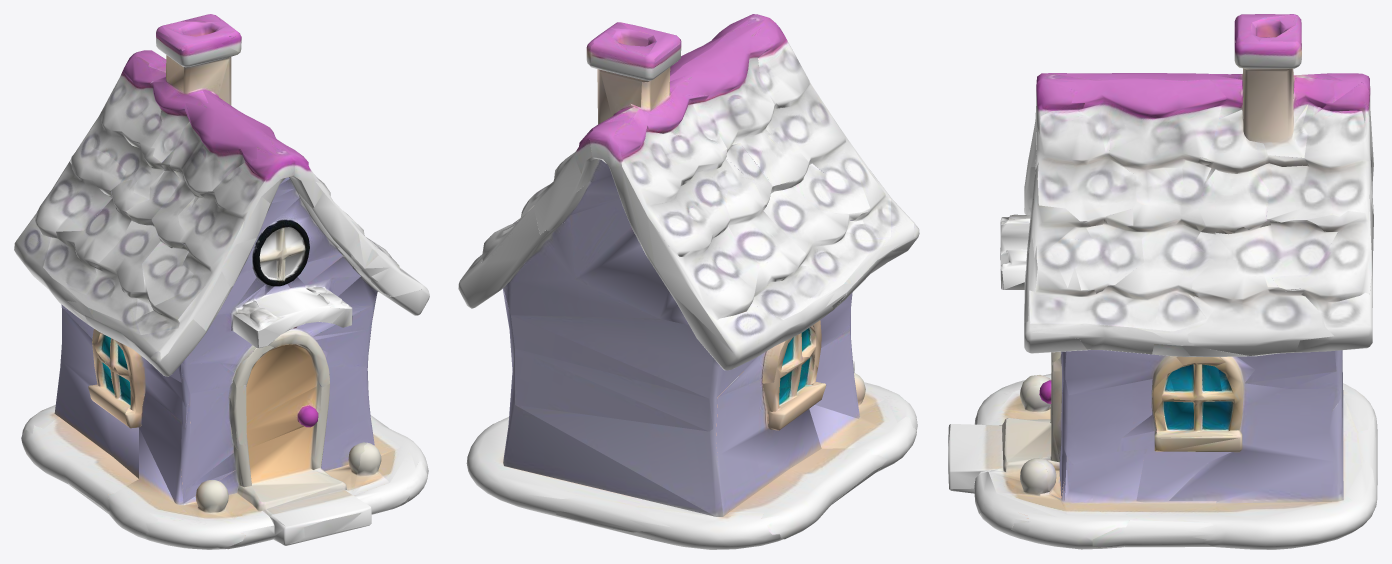
File: lp_prop_haus.glb
3 views of the same model, side by side, from view 1: azimuth 30°, elevation 25°; view 2: azimuth 150°, elevation 25°; view 3: azimuth 270°, elevation 25° (orthographic). The views are drawn at different scales.
Visible parts, largest first — view 1: haus; view 2: haus; view 3: haus.
Boxes of the visible parts, x1=… form: haus: x1=14, y1=14, x2=429, y2=549; haus: x1=458, y1=14, x2=919, y2=549; haus: x1=948, y1=14, x2=1377, y2=549.
Size of the model in its own units: 1 by 1.3 by 1.11.
1 material, 1 textured.
